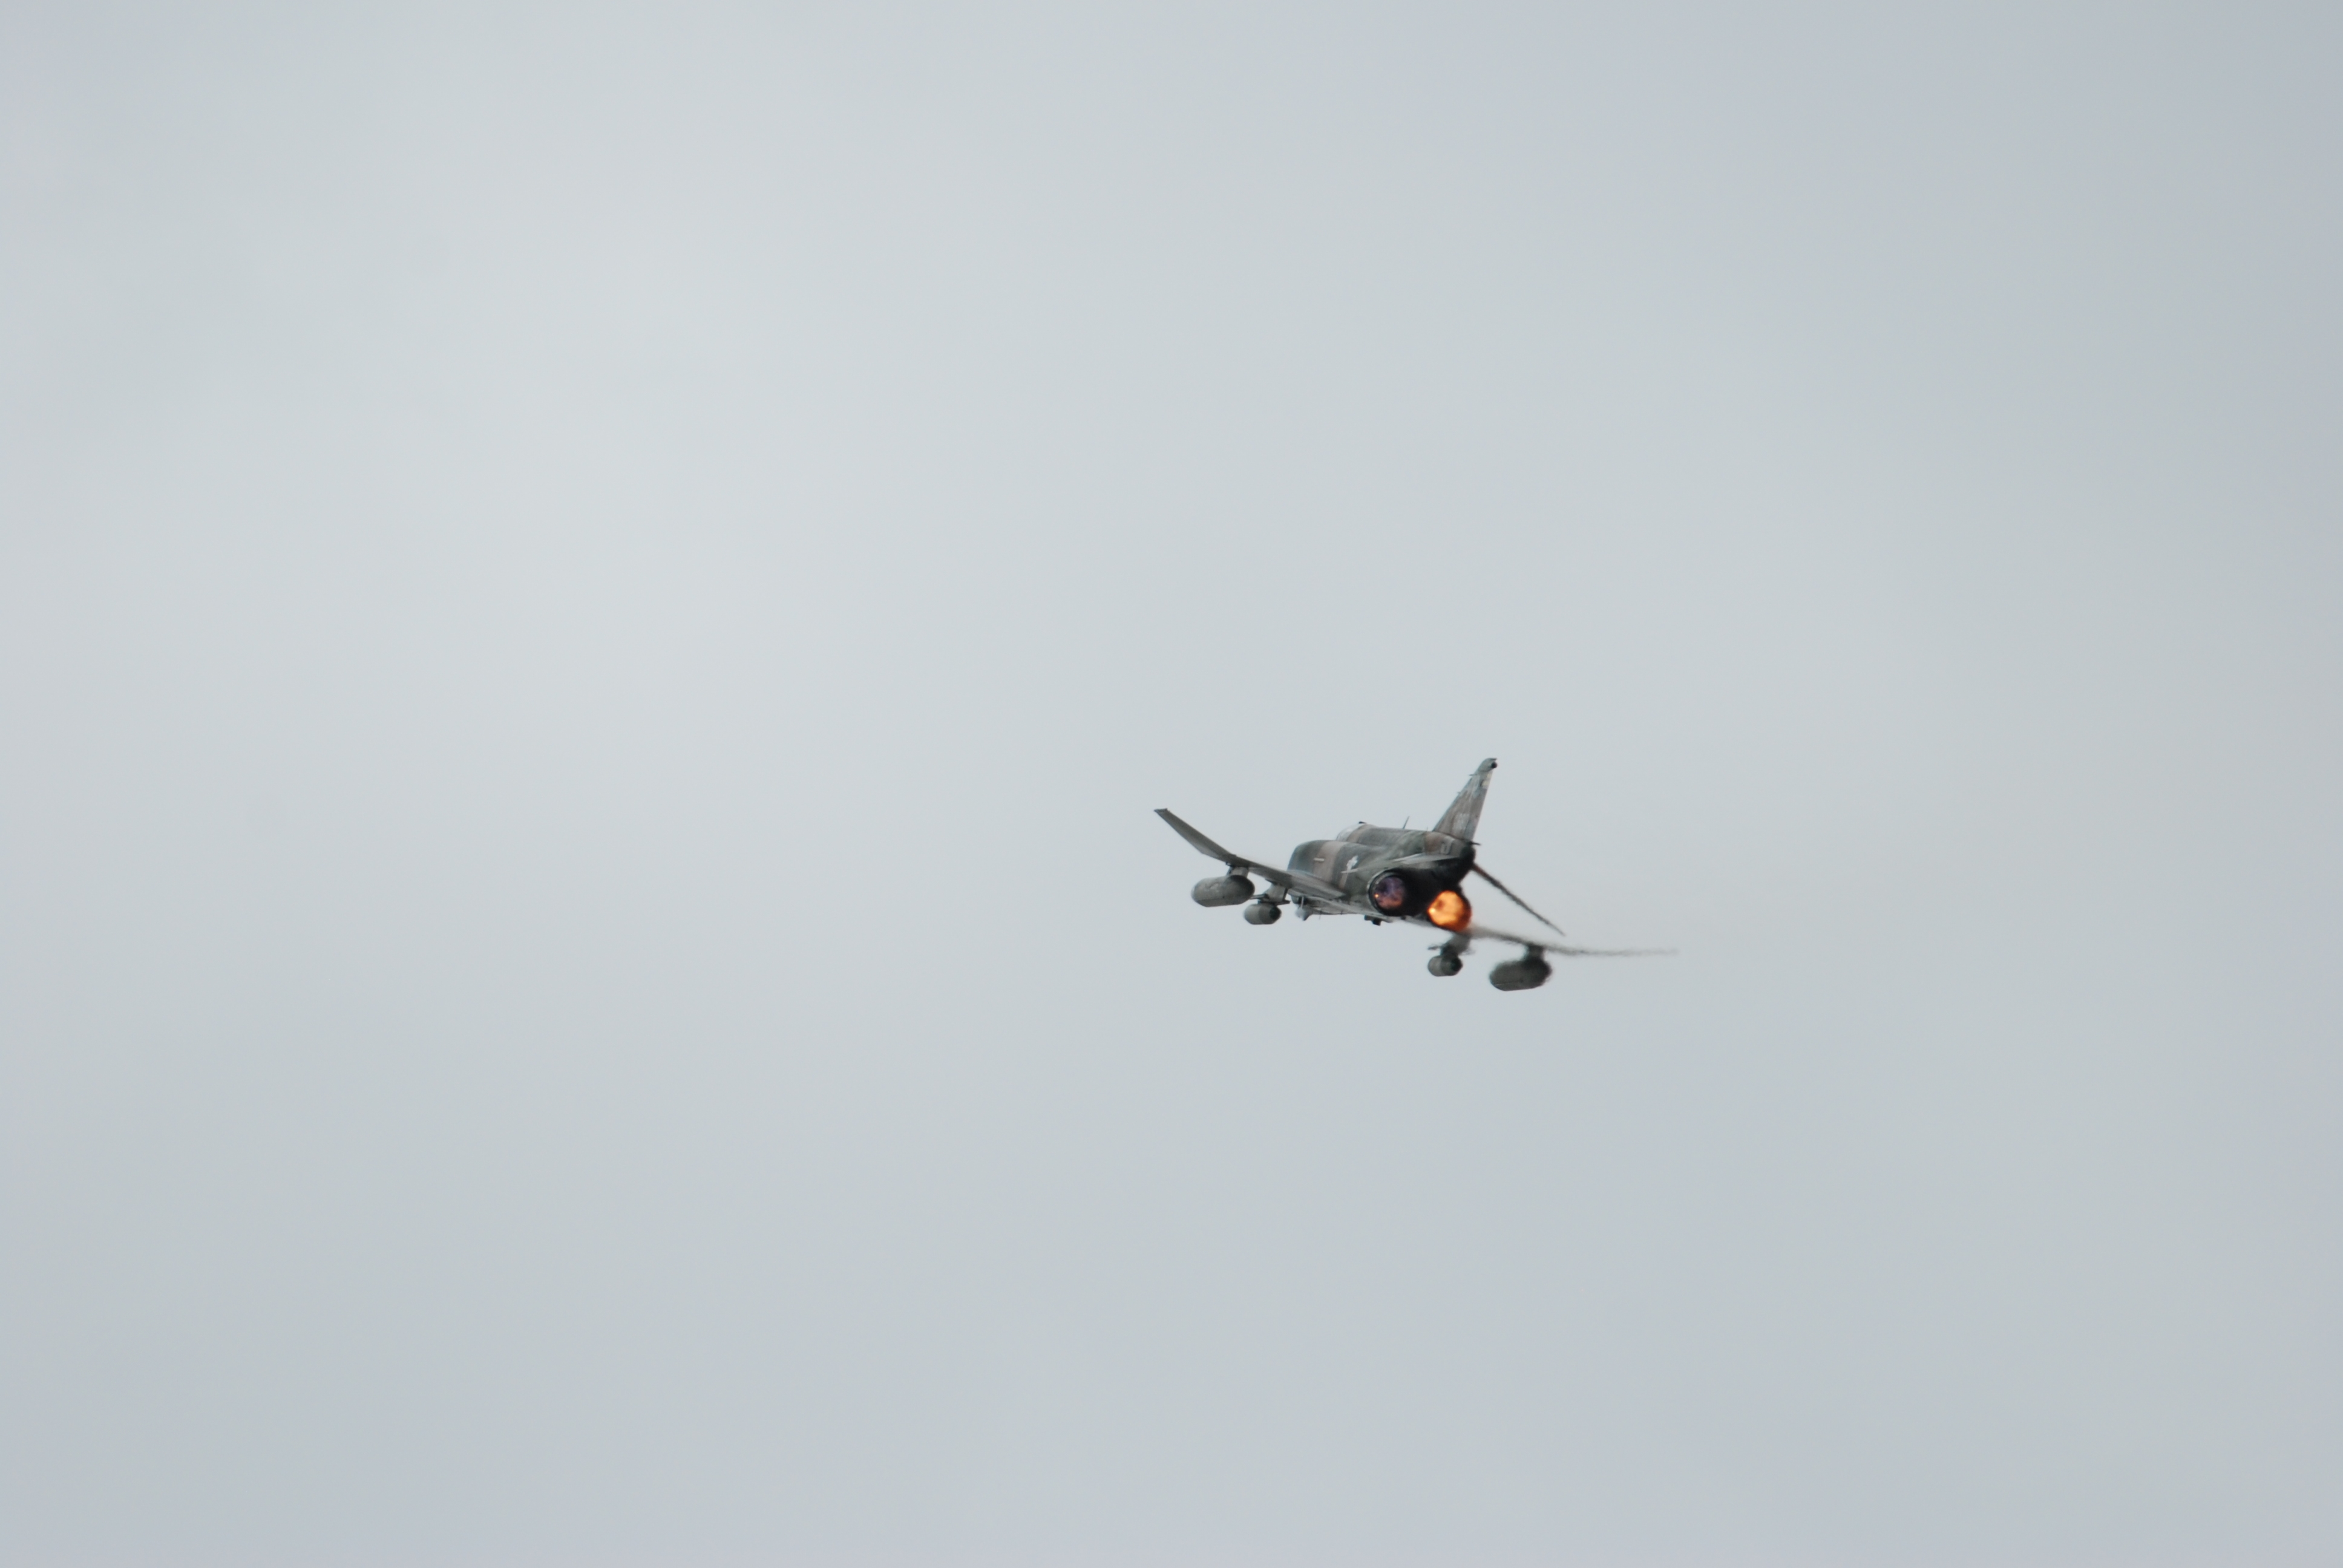F4: (1153, 758, 1680, 992)
